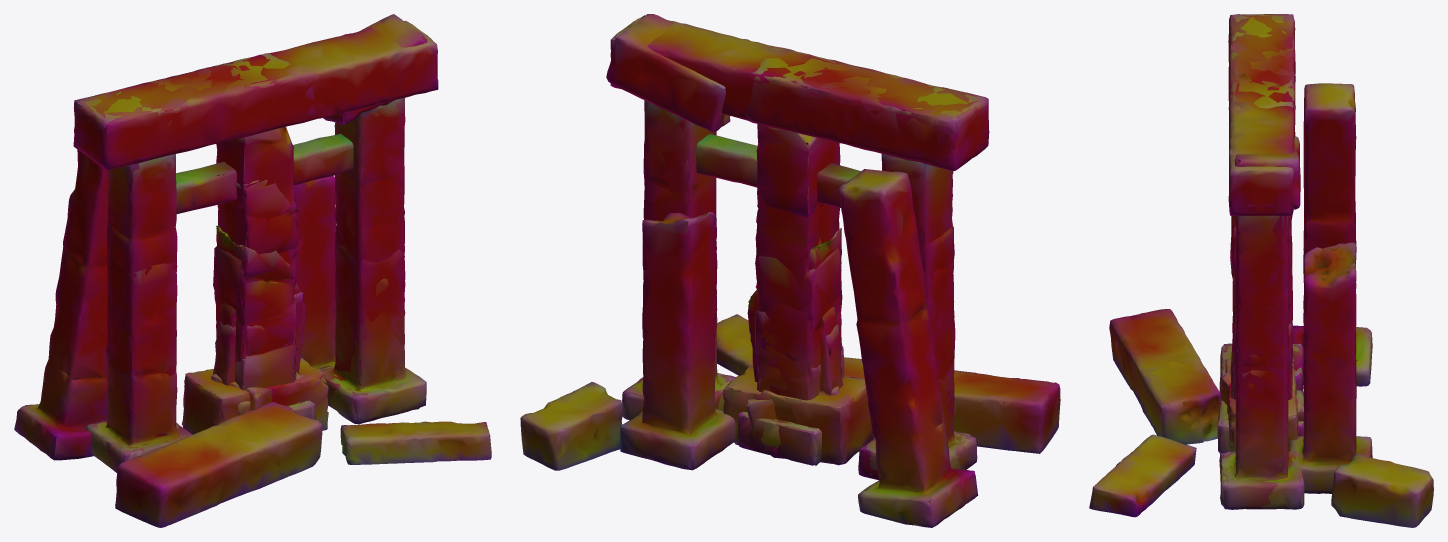
File: ruins_kit_lod.glb
3 views of the same model, side by side, from view 1: azimuth 30°, elevation 25°; view 2: azimuth 150°, elevation 25°; view 3: azimuth 270°, elevation 25° (orthographic). The views are drawn at different scales.
Parts seen in each view (by area): view 1: Gate_A_LOD, Gate_C_LOD, Gate_B_LOD, Pillar_3_LOD, Pillar_1_LOD, Block_0_LOD, Pillar_2_LOD, Slab_2_LOD, Slab_1_LOD, Pillar_0_LOD, Block_1_LOD; view 2: Gate_C_LOD, Gate_B_LOD, Gate_A_LOD, Pillar_3_LOD, Pillar_2_LOD, Block_0_LOD, Pillar_1_LOD, Pillar_0_LOD, Slab_2_LOD, Block_1_LOD; view 3: Gate_C_LOD, Gate_A_LOD, Gate_B_LOD, Pillar_3_LOD, Block_0_LOD, Pillar_2_LOD, Pillar_1_LOD, Pillar_0_LOD, Block_1_LOD.
Part boxes in pixels (x1,y1,x2,y2): Gate_A_LOD: (73,20,438,472); Gate_C_LOD: (14,149,491,527); Gate_B_LOD: (74,14,427,472); Pillar_3_LOD: (213,126,315,419); Pillar_1_LOD: (213,225,314,443); Block_0_LOD: (181,357,328,434); Pillar_2_LOD: (216,179,314,419); Slab_2_LOD: (212,283,306,385); Slab_1_LOD: (218,292,303,372); Pillar_0_LOD: (242,325,315,419); Block_1_LOD: (211,374,271,410); Gate_C_LOD: (520,169,1060,527); Gate_B_LOD: (606,14,988,480); Gate_A_LOD: (610,15,989,475); Pillar_3_LOD: (737,124,844,465); Pillar_2_LOD: (738,157,840,465); Block_0_LOD: (722,365,874,465); Pillar_1_LOD: (739,228,842,461); Pillar_0_LOD: (738,311,819,465); Slab_2_LOD: (747,289,843,395); Block_1_LOD: (746,386,839,436); Gate_C_LOD: (1089,83,1433,527); Gate_A_LOD: (1220,14,1303,509); Gate_B_LOD: (1219,14,1304,509); Pillar_3_LOD: (1219,215,1303,455); Block_0_LOD: (1225,358,1298,451); Pillar_2_LOD: (1217,216,1303,451); Pillar_1_LOD: (1220,237,1303,450); Pillar_0_LOD: (1218,316,1302,441); Block_1_LOD: (1219,371,1303,421).
Size of the model in its own units: 5.01 by 4.66 by 4.11.
